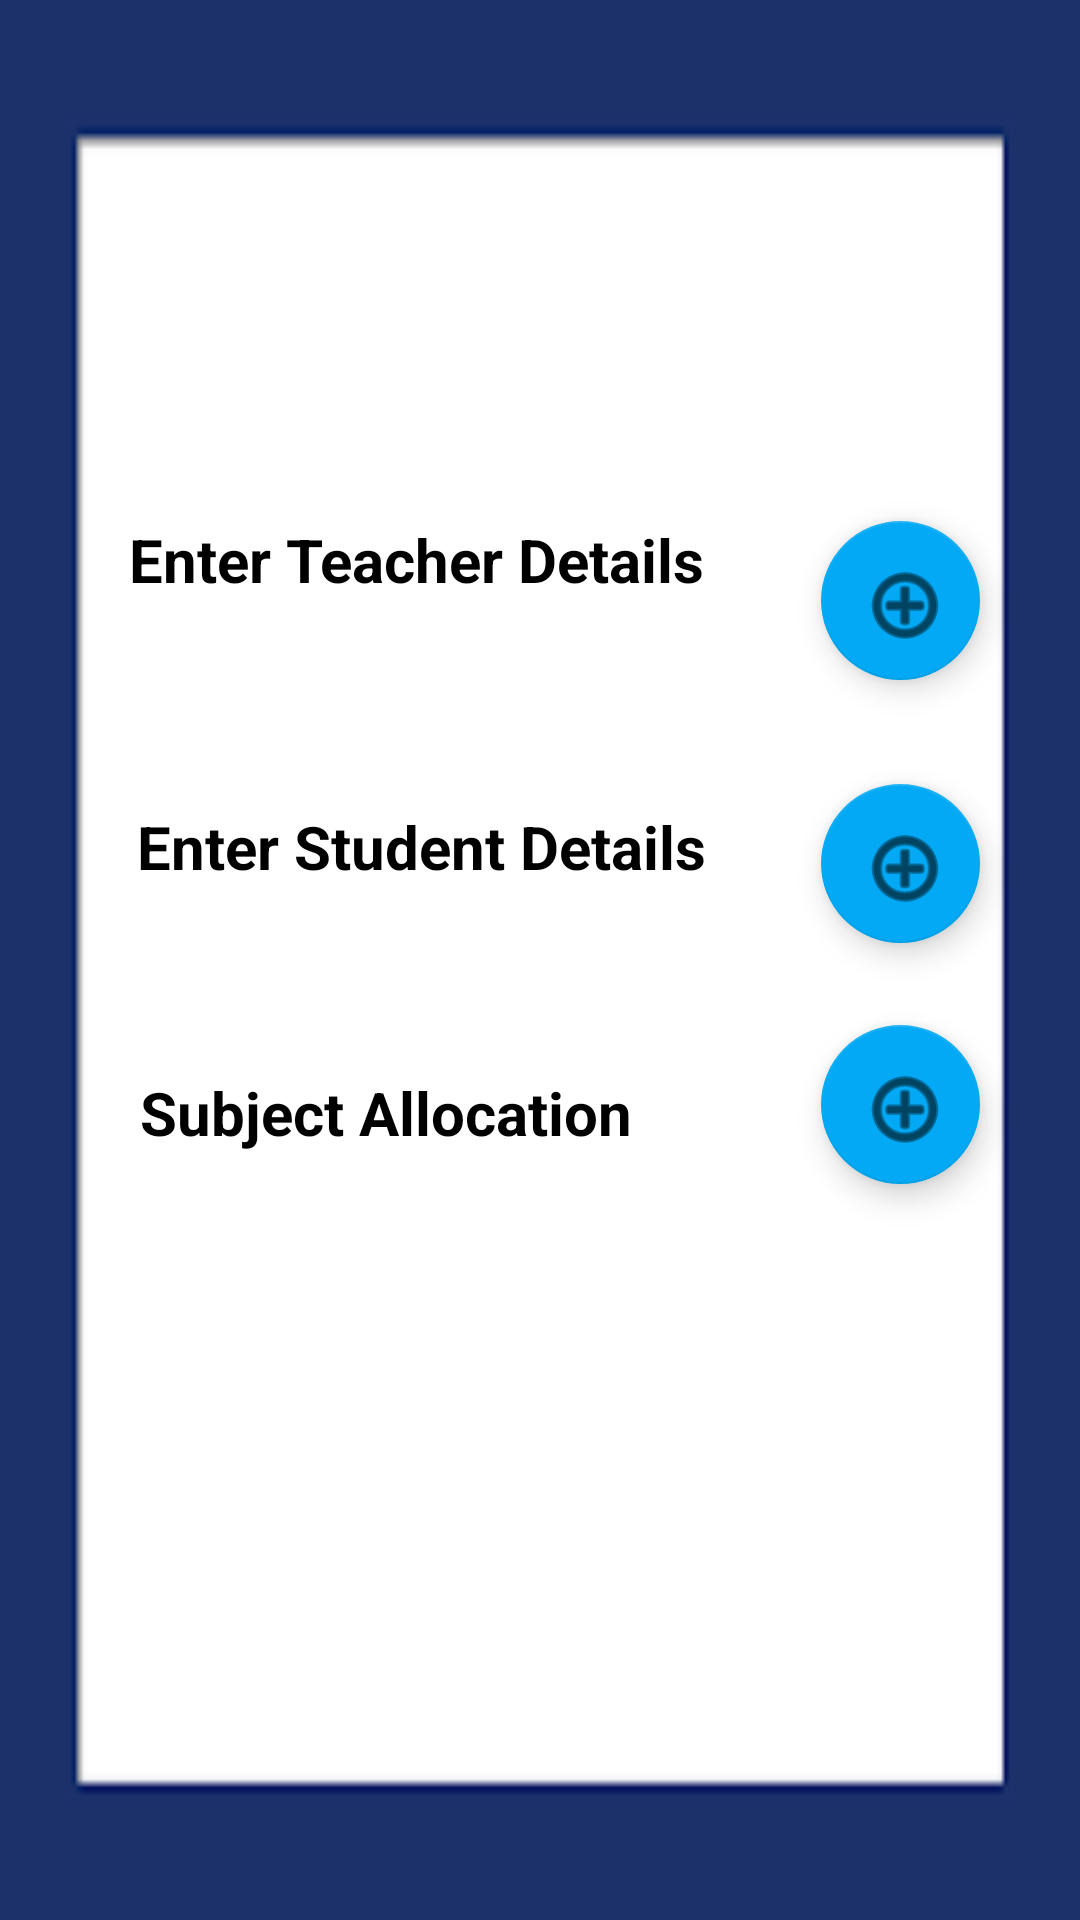

Screen size 1080×1920. Icon name, then its center in pixels as point (x, y):
add: point (900, 600), point (900, 863), point (900, 1104)
